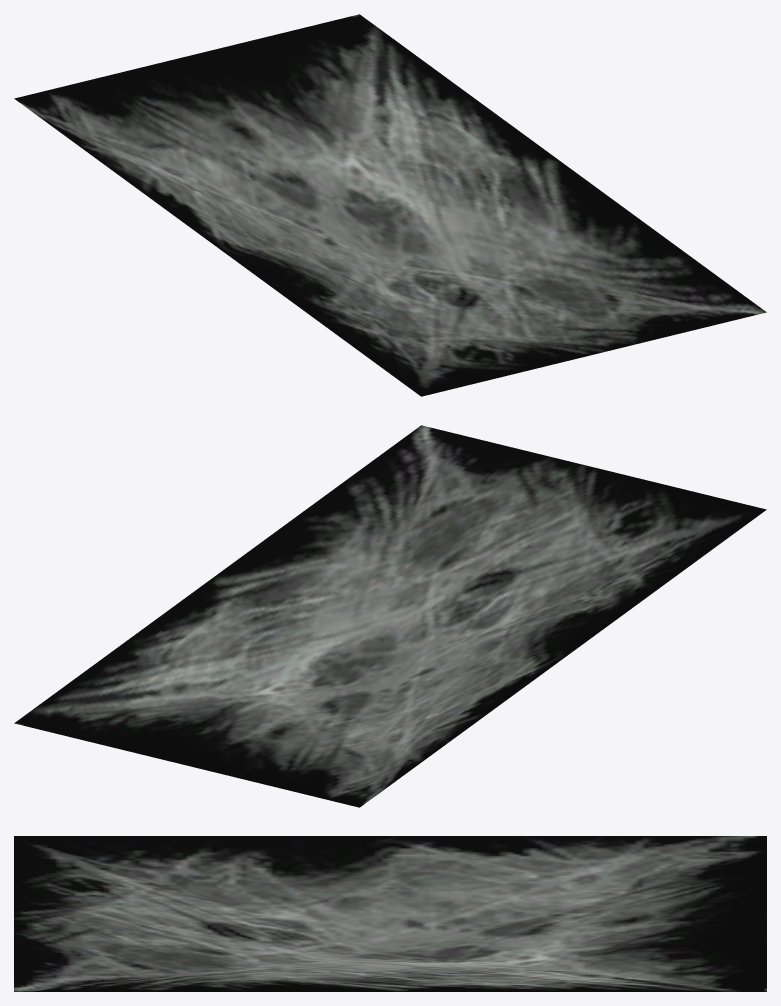
Rendered from S_Build_Forest071.FBX.
3 views of the same model, one above another, from view 1: azimuth 30°, elevation 25°; view 2: azimuth 150°, elevation 25°; view 3: azimuth 270°, elevation 25° (orthographic). The views are drawn at different scales.
Visible parts, largest first — view 1: S_Build_Forest071; view 2: S_Build_Forest071; view 3: S_Build_Forest071.
Part boxes in pixels (bbox=[...]): S_Build_Forest071: bbox=[14, 14, 766, 396]; S_Build_Forest071: bbox=[14, 425, 766, 807]; S_Build_Forest071: bbox=[14, 836, 766, 991].
Bounding box in the file's own units: 331 × 675 × 40.81.
